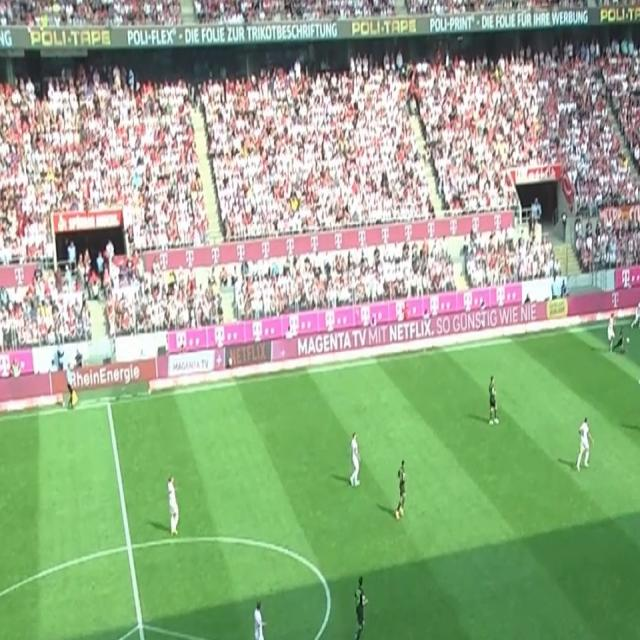ball: (626, 334, 630, 344)
